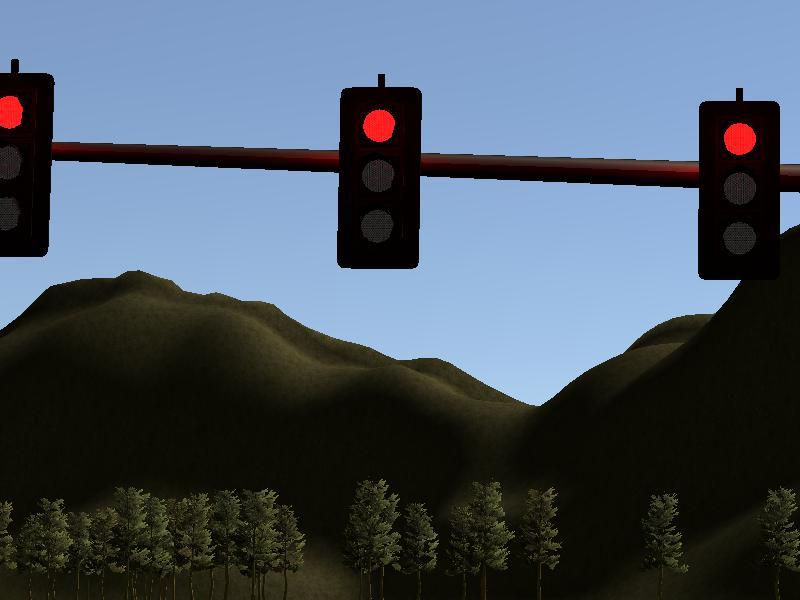Red: (700, 100, 780, 279), (341, 86, 417, 268), (1, 72, 54, 254)
